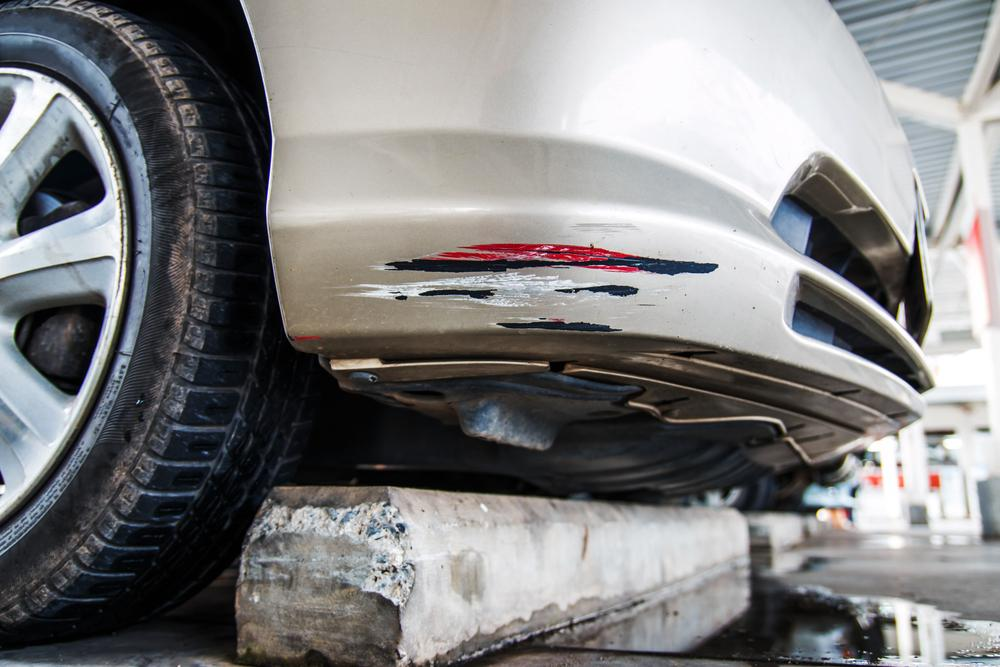scratch: (338, 214, 730, 336)
